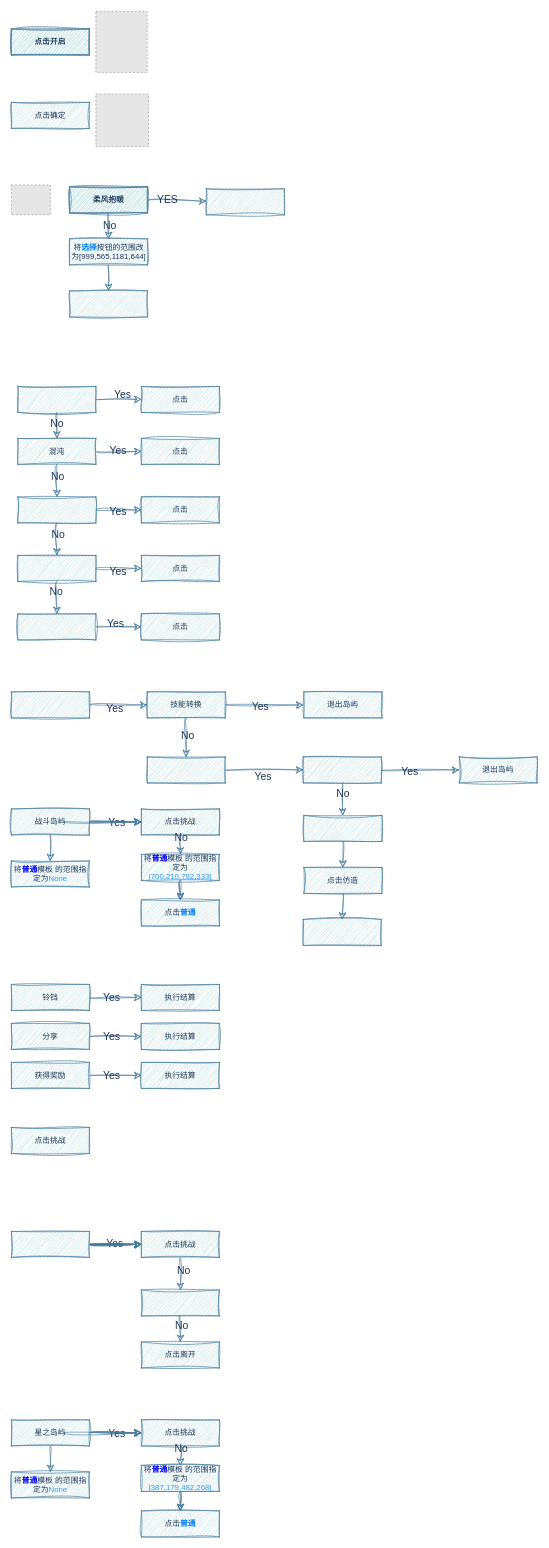
Image size: 549x1548. Some labels were removed from this diagram. Grey dashed boxes stand in for pictures. The shapes that lost their labels are listed below. From the top down, each one's centre as x and y in pixels, then its label:
At [245,201]: "找它下面的选择按钮".
At [108,303]: "点击选择".
At [56,399]: "神秘".
At [56,509]: "战斗".
At [56,568]: "商店".
At [56,626]: "星之屿".
At [50,704]: "神秘之屿".
At [186,769]: "背包仿造".
At [342,769]: "等级5".
At [342,828]: "点击柔风抱暖(含找色".
At [342,932]: "点击确认".
At [50,1244]: "混沌岛屿".
At [180,1302]: "点击精英".
